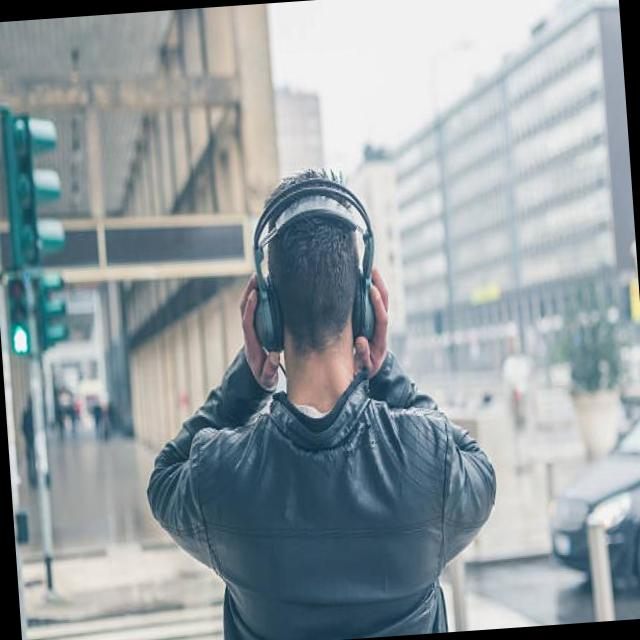no helmet: (245, 157, 398, 437)
